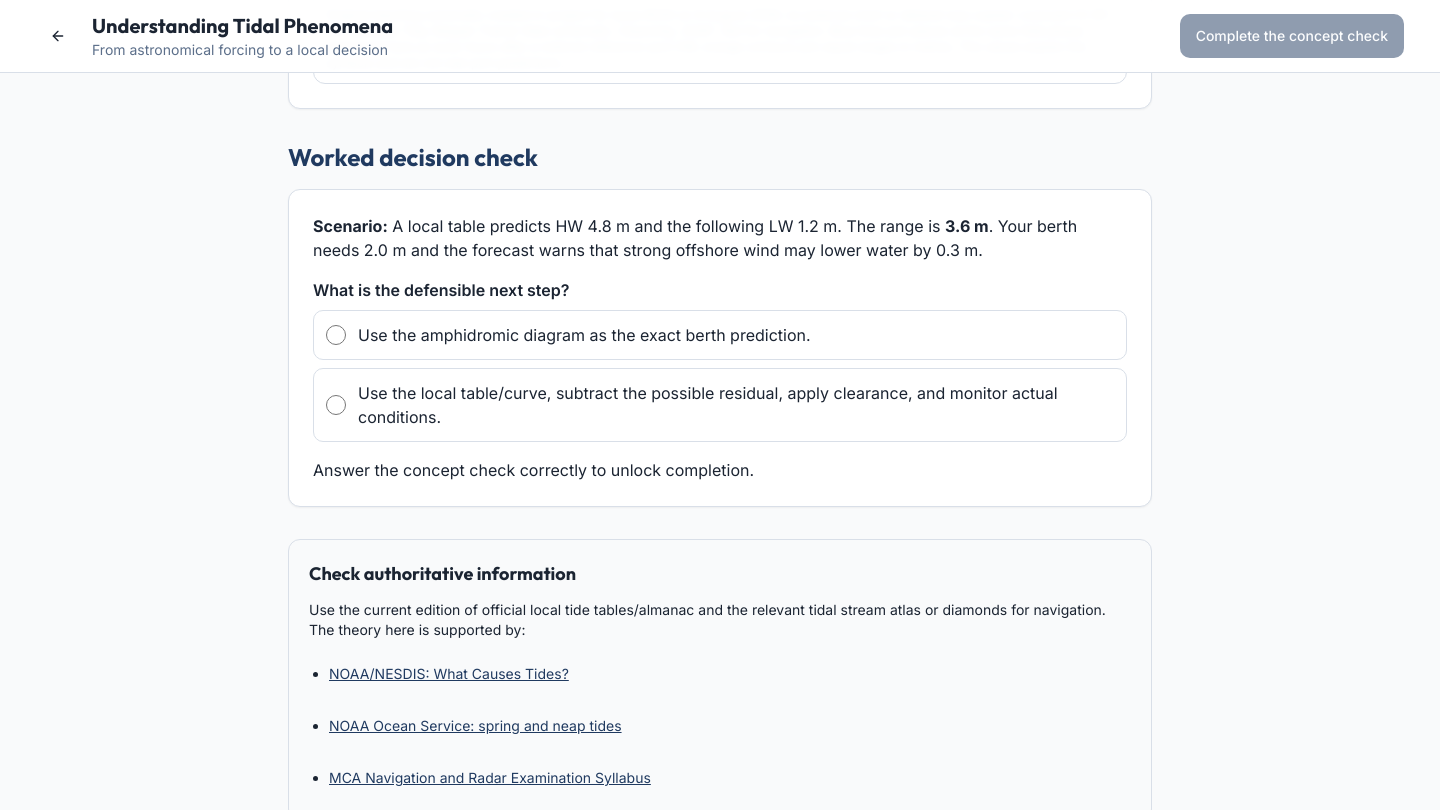
Test: Tides durable evidence completion › distinguishes the anonymous durable outcome
(page scrolled)
Click the radio button labelled "Use the local table/curve". click: (336, 405)
box: [326,395,346,415]
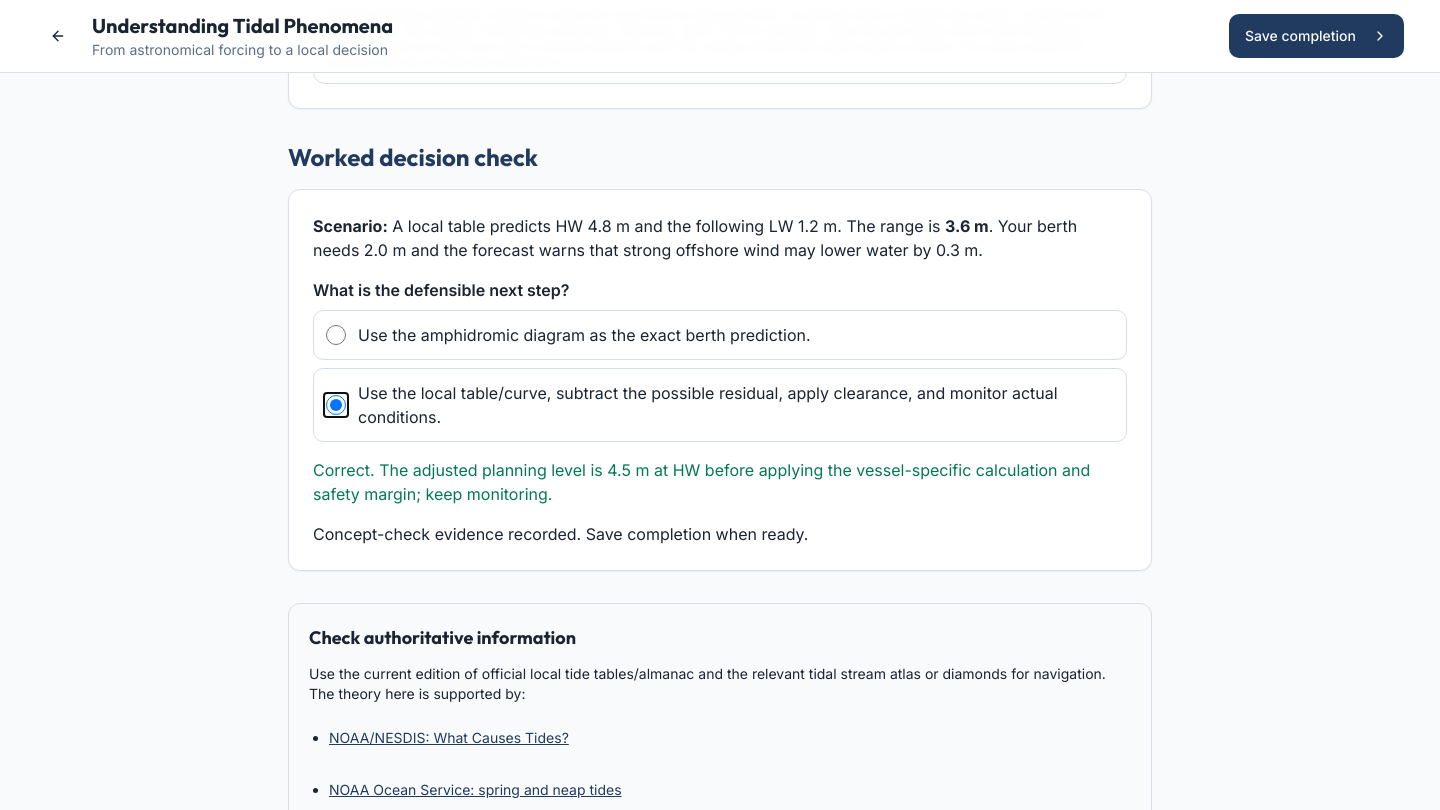
Click the button "Save completion". click: (1316, 36)
box: [1229,14,1404,58]
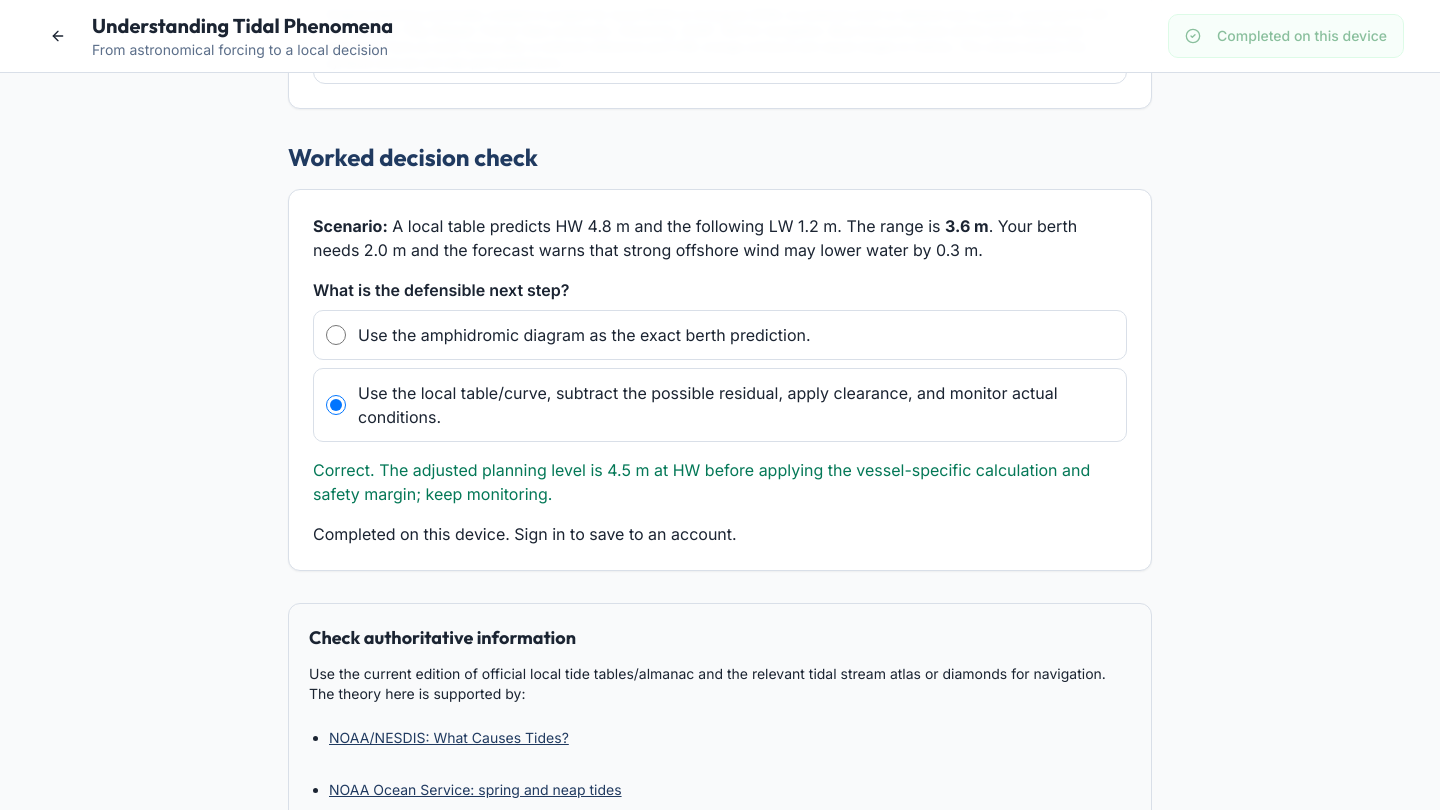
Expected: the button "Completed on this device" is shown, [1168,14,1404,58]
